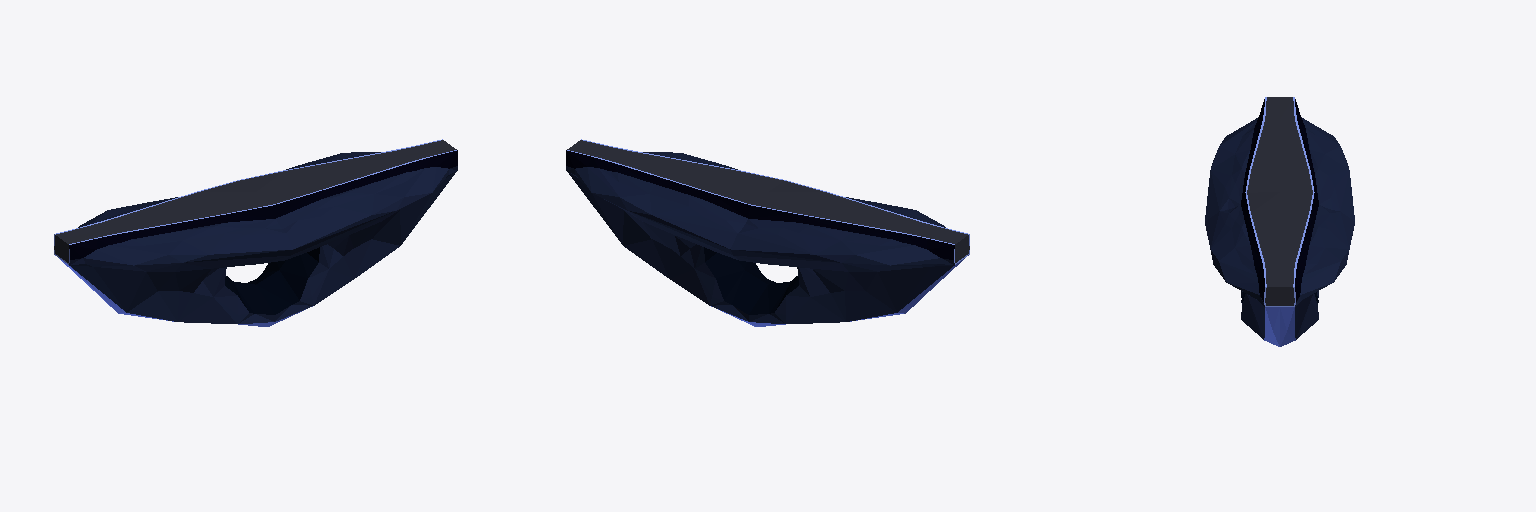
The model's file is ruins.obj.
3 views of the same model, side by side, from view 1: azimuth 30°, elevation 25°; view 2: azimuth 150°, elevation 25°; view 3: azimuth 270°, elevation 25° (orthographic).
Visible parts, largest first — view 1: Ruins_Stage; view 2: Ruins_Stage; view 3: Ruins_Stage.
Boxes of the visible parts, box(x1,y1,x2,y2) form: Ruins_Stage: box(54, 139, 457, 326); Ruins_Stage: box(566, 139, 969, 326); Ruins_Stage: box(1205, 97, 1354, 346).
Bounding box in the file's own units: 2 × 0.6286 × 0.6718.